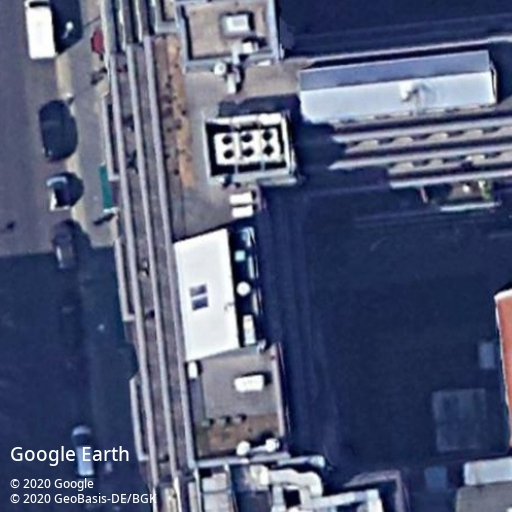Chiller: (214, 128, 280, 164)
